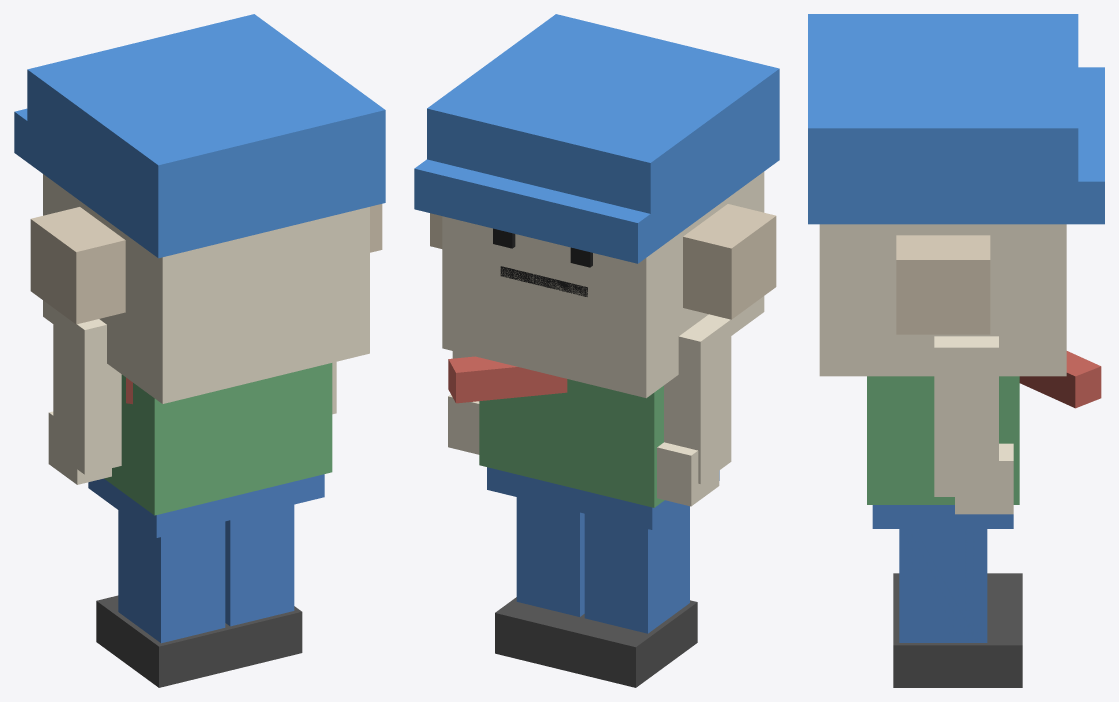
File: voxel_supervisor.glb
The picture shows the model from 3 angles, left to right: view 1: azimuth 30°, elevation 25°; view 2: azimuth 150°, elevation 25°; view 3: azimuth 270°, elevation 25°; orthographic projection. The views are drawn at different scales.
Parts seen in each view (by area): view 1: VoxelBoss_CapTop, VoxelBoss_Head, VoxelBoss_Torso, VoxelBoss_Leg_L, VoxelBoss_Arm_L, VoxelBoss_Ear_L, VoxelBoss_Leg_R, VoxelBoss_Shoe_L, VoxelBoss_Hips, VoxelBoss_Shoe_R, VoxelBoss_CapBrim, VoxelBoss_Hand_L (+1 smaller); view 2: VoxelBoss_CapTop, VoxelBoss_Head, VoxelBoss_Torso, VoxelBoss_CapBrim, VoxelBoss_Leg_L, VoxelBoss_Ear_L, VoxelBoss_Arm_L, VoxelBoss_Leg_R, VoxelBoss_Shoe_L, VoxelBoss_Hips, VoxelBoss_Shoe_R, VoxelBoss_Strap (+3 smaller); view 3: VoxelBoss_CapTop, VoxelBoss_Head, VoxelBoss_Torso, VoxelBoss_Arm_R, VoxelBoss_Leg_R, VoxelBoss_Ear_R, VoxelBoss_CapBrim, VoxelBoss_Shoe_R, VoxelBoss_Hips, VoxelBoss_Strap, VoxelBoss_Hand_R, VoxelBoss_Shoe_L.
Boxes of the visible parts, x1,y1,x2,y2 form: VoxelBoss_CapTop: (27,14,385,258); VoxelBoss_Head: (43,174,369,403); VoxelBoss_Torso: (104,363,332,515); VoxelBoss_Leg_L: (118,510,225,643); VoxelBoss_Arm_L: (53,308,121,474); VoxelBoss_Ear_L: (30,207,125,324); VoxelBoss_Leg_R: (225,504,294,626); VoxelBoss_Shoe_L: (96,595,232,687); VoxelBoss_Hips: (88,474,324,537); VoxelBoss_Shoe_R: (228,606,302,670); VoxelBoss_CapBrim: (14,108,77,198); VoxelBoss_Hand_L: (48,411,111,484); VoxelBoss_CapTop: (427,14,779,247); VoxelBoss_Head: (442,171,764,398); VoxelBoss_Torso: (479,379,664,507); VoxelBoss_CapBrim: (414,159,699,263); VoxelBoss_Leg_L: (584,505,689,633); VoxelBoss_Ear_L: (683,204,776,319); VoxelBoss_Arm_L: (664,314,731,483); VoxelBoss_Leg_R: (516,497,584,616); VoxelBoss_Shoe_L: (563,600,697,687); VoxelBoss_Hips: (487,467,719,529); VoxelBoss_Shoe_R: (495,597,584,670); VoxelBoss_Strap: (448,356,567,403); VoxelBoss_CapTop: (808,14,1078,224); VoxelBoss_Head: (819,224,1066,376); VoxelBoss_Torso: (867,376,1019,504); VoxelBoss_Arm_R: (934,336,998,496); VoxelBoss_Leg_R: (899,529,987,642); VoxelBoss_Ear_R: (896,235,990,334); VoxelBoss_CapBrim: (975,67,1104,224); VoxelBoss_Shoe_R: (893,608,1022,687); VoxelBoss_Hips: (872,505,1013,528); VoxelBoss_Strap: (1019,351,1101,408); VoxelBoss_Hand_R: (955,443,1013,514); VoxelBoss_Shoe_L: (893,573,1022,607).
Bounding box in the file's own units: 1.24 × 2.18 × 1.01.
